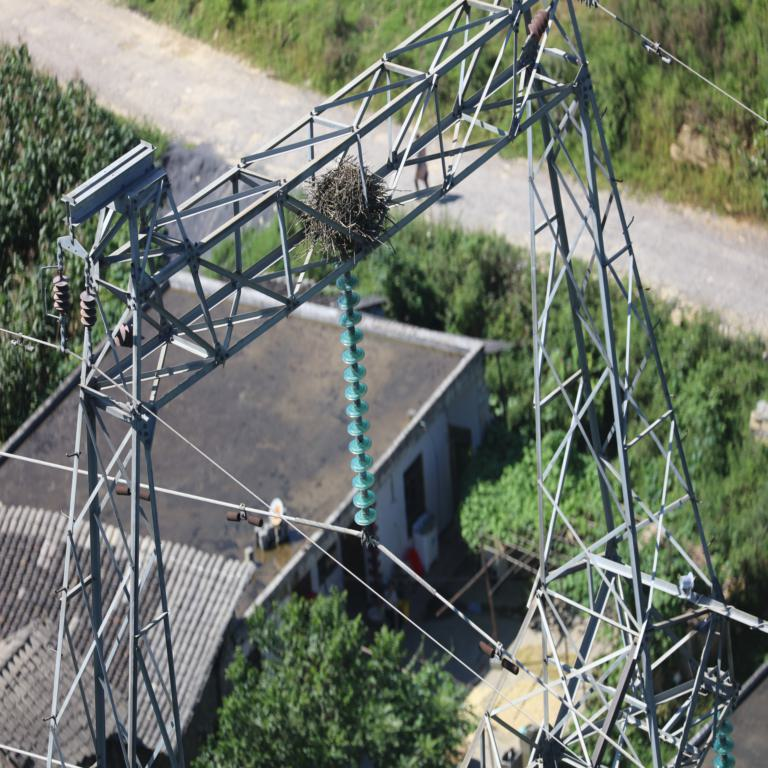nest: (306, 165, 383, 255)
